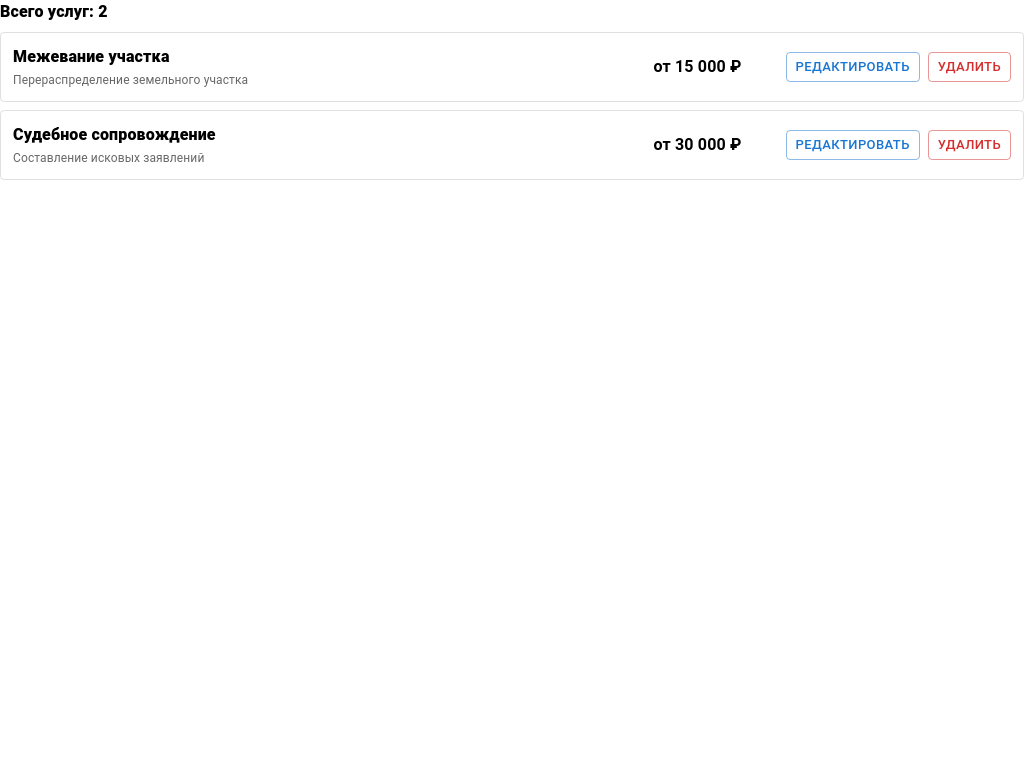
Test: ServicesAdminClient › shows delete error when delete request fails
Step 1. Click the button "Удалить" in the row of "от 15 000 ₽" → (969, 67), box [928,52,1011,82]
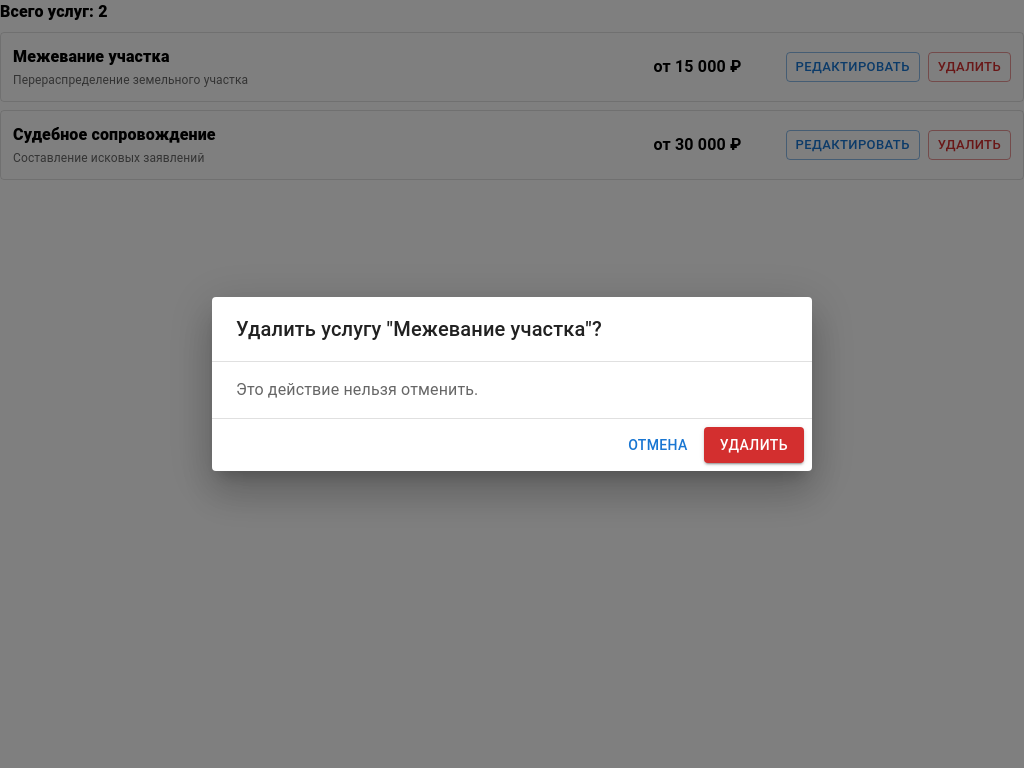
Step 2. Click the button "Удалить" → (754, 445), box [704,427,804,463]
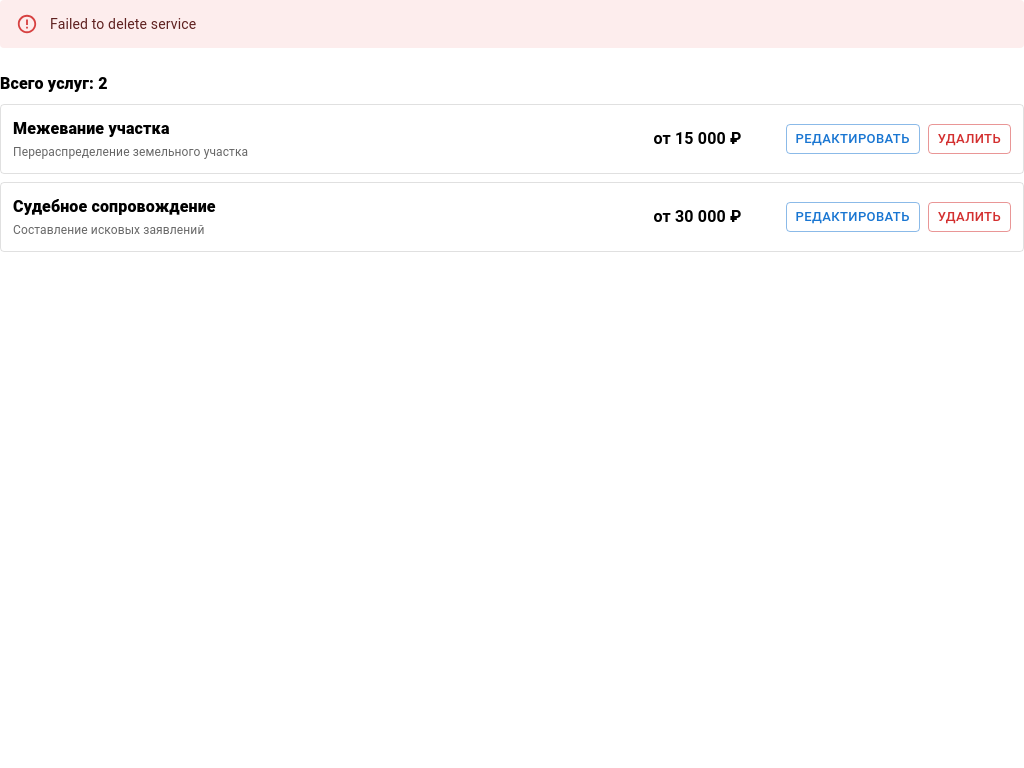
Now the text "Failed to delete service" is shown, box [50,16,196,32]
